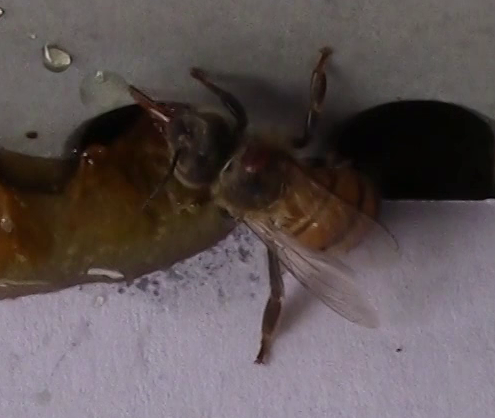Varroa destructor: (237, 144, 274, 175)
